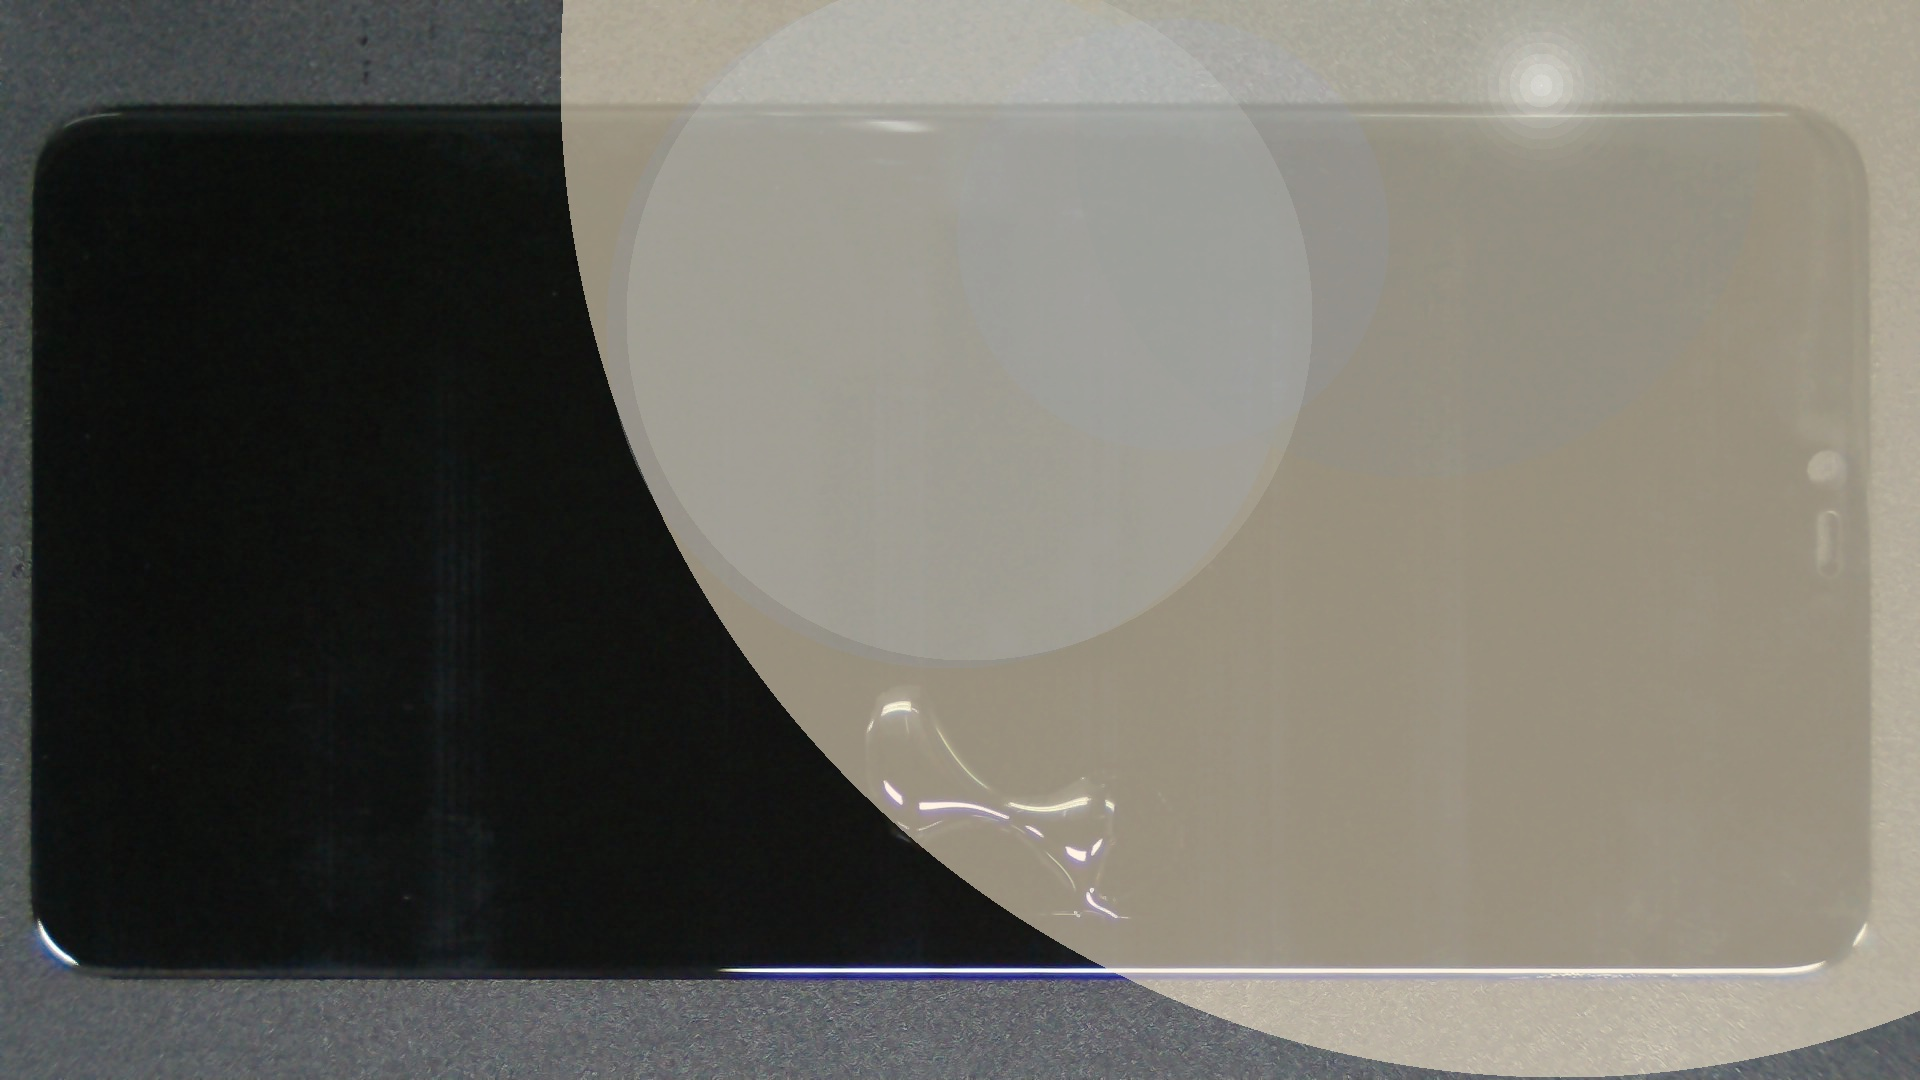oil: (454, 342, 1360, 1026)
